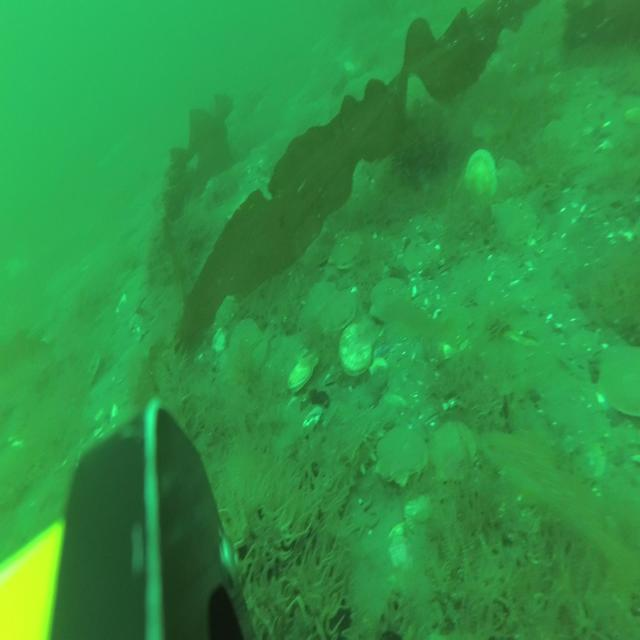holothurian: (337, 409, 386, 486)
scallop: (600, 344, 640, 425), (378, 428, 426, 494), (433, 419, 473, 484), (263, 332, 299, 395), (496, 194, 534, 252), (338, 317, 372, 378), (465, 149, 499, 203), (231, 319, 264, 374), (371, 277, 408, 323), (322, 291, 358, 334), (286, 351, 318, 397), (301, 282, 334, 324), (332, 230, 362, 273), (405, 232, 432, 276), (546, 121, 578, 158), (496, 161, 522, 204)
